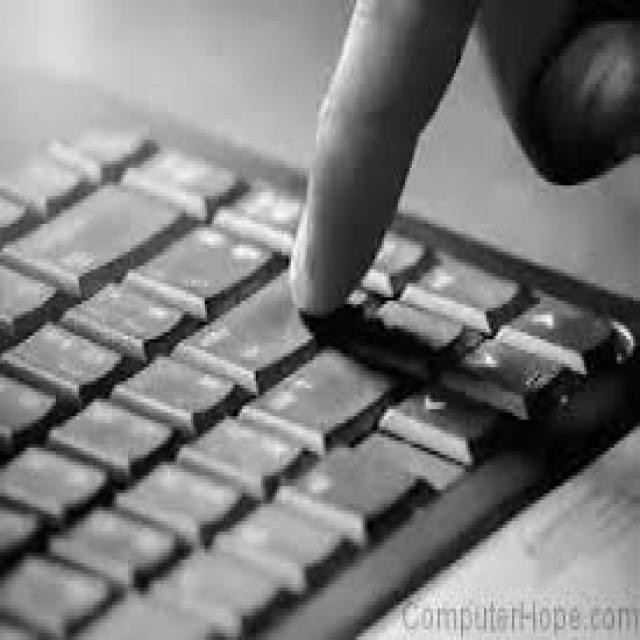others: (2, 4, 636, 619)
